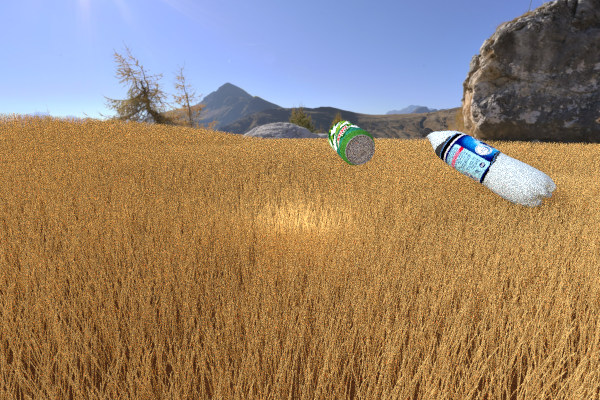Plastic Bottle: (421, 127, 556, 208), (327, 120, 374, 165), (210, 122, 259, 147)
